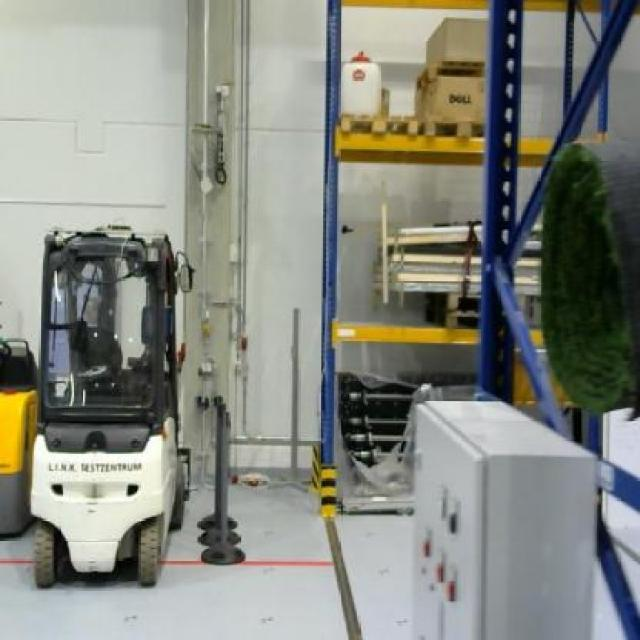box: (422, 15, 486, 74), (414, 73, 484, 122)
